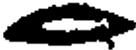Mouth: (3, 1, 135, 44)
